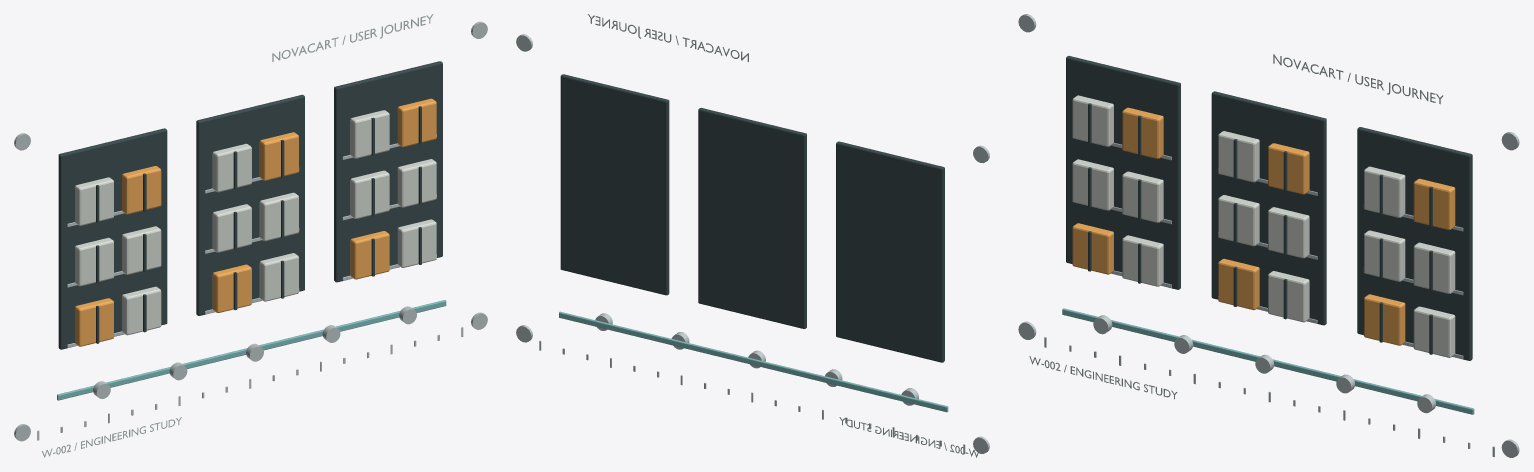
Rendered from novacart.glb.
The picture shows the model from 3 angles, left to right: view 1: azimuth 30°, elevation 25°; view 2: azimuth 150°, elevation 25°; view 3: azimuth 330°, elevation 25°; orthographic projection. The views are drawn at different scales.
Parts seen in each view (by area): view 1: optical-core__Project_Graphite.001, optical-core__Project_Ceramic, optical-core__Project_Amber.001, optical-lenses__Project_Silver.001, optical-lenses__Project_Trace.001, optical-core__Project_Silver.001; view 2: optical-core__Project_Graphite.001, optical-lenses__Project_Trace.001, optical-lenses__Project_Silver.001, optical-core__Project_Silver.001; view 3: optical-core__Project_Graphite.001, optical-core__Project_Ceramic, optical-core__Project_Amber.001, optical-lenses__Project_Silver.001, optical-lenses__Project_Trace.001, optical-core__Project_Silver.001.
Part boxes in pixels (x1=…): optical-core__Project_Graphite.001: x1=58, y1=61, x2=442, y2=349; optical-core__Project_Ceramic: x1=75, y1=110, x2=436, y2=335; optical-core__Project_Amber.001: x1=75, y1=98, x2=436, y2=346; optical-lenses__Project_Silver.001: x1=14, y1=14, x2=487, y2=457; optical-lenses__Project_Trace.001: x1=57, y1=300, x2=446, y2=400; optical-core__Project_Silver.001: x1=93, y1=306, x2=416, y2=398; optical-core__Project_Graphite.001: x1=560, y1=74, x2=944, y2=362; optical-lenses__Project_Trace.001: x1=559, y1=311, x2=948, y2=412; optical-lenses__Project_Silver.001: x1=516, y1=14, x2=989, y2=457; optical-core__Project_Silver.001: x1=595, y1=313, x2=918, y2=405; optical-core__Project_Graphite.001: x1=1066, y1=56, x2=1472, y2=360; optical-core__Project_Ceramic: x1=1072, y1=95, x2=1455, y2=357; optical-core__Project_Amber.001: x1=1072, y1=107, x2=1455, y2=345; optical-lenses__Project_Silver.001: x1=1018, y1=14, x2=1519, y2=457; optical-lenses__Project_Trace.001: x1=1062, y1=308, x2=1474, y2=414; optical-core__Project_Silver.001: x1=1093, y1=315, x2=1435, y2=413.
Bounding box in the file's own units: 4.01 × 2.83 × 0.152.
